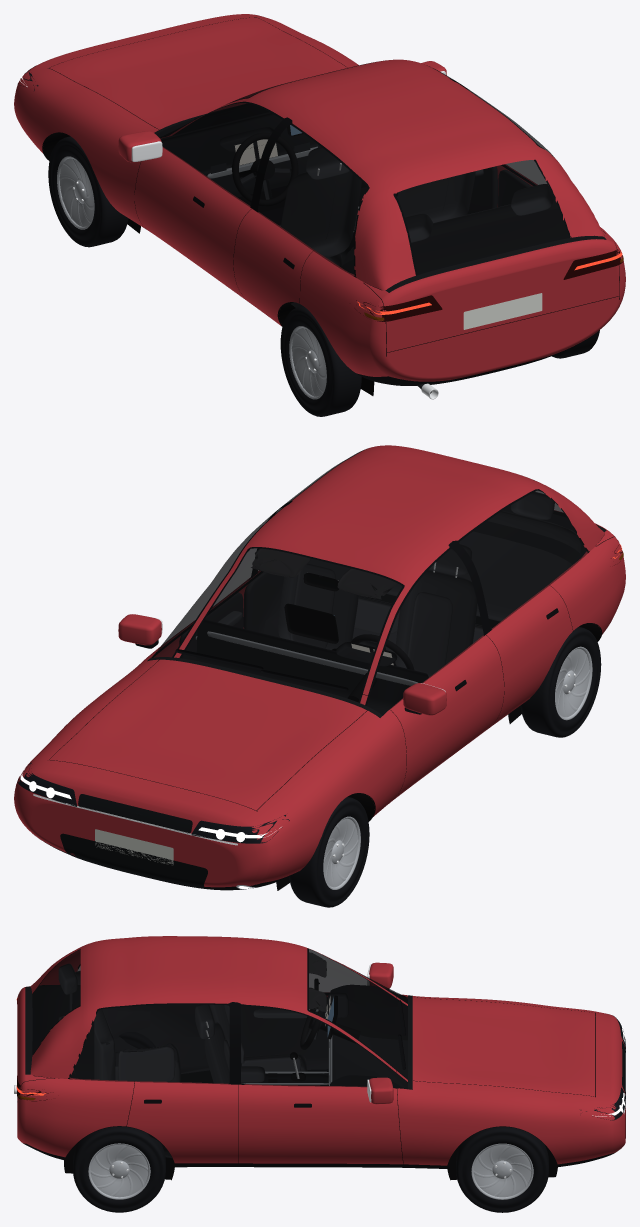
Rendered from car_traffic_hatch.glb.
3 views of the same model, one above another, from view 1: azimuth 30°, elevation 25°; view 2: azimuth 150°, elevation 25°; view 3: azimuth 270°, elevation 25° (orthographic). The views are drawn at different scales.
Visible parts, largest first — view 1: Body, Glass, Interior, Wheel_RL, Wheel_FL, SteeringWheel; view 2: Body, Glass, Interior, Wheel_RL, Wheel_FL, Lights_Head, SteeringWheel; view 3: Body, Glass, Interior, Wheel_RR, Wheel_FR, SteeringWheel, Wheel_RL.
Boxes of the visible parts, left/top/right/bottom form: Body: left=14, top=14, right=625, bottom=399; Glass: left=159, top=63, right=569, bottom=275; Interior: left=160, top=94, right=558, bottom=307; Wheel_RL: left=280, top=306, right=361, bottom=416; Wheel_FL: left=48, top=136, right=128, bottom=247; SteeringWheel: left=231, top=132, right=298, bottom=206; Body: left=14, top=445, right=625, bottom=890; Glass: left=152, top=450, right=587, bottom=714; Interior: left=179, top=492, right=581, bottom=714; Wheel_RL: left=520, top=627, right=601, bottom=737; Wheel_FL: left=289, top=796, right=369, bottom=907; Lights_Head: left=20, top=765, right=281, bottom=888; SteeringWheel: left=348, top=634, right=414, bottom=701; Body: left=14, top=936, right=625, bottom=1180; Glass: left=32, top=949, right=407, bottom=1089; Interior: left=58, top=952, right=407, bottom=1158; Wheel_RR: left=73, top=1126, right=165, bottom=1212; Wheel_FR: left=456, top=1127, right=548, bottom=1212; SteeringWheel: left=300, top=992, right=360, bottom=1049; Wheel_RL: left=119, top=1032, right=155, bottom=1048.
Bounding box in the file's own units: 2.03 × 1.46 × 4.08.
